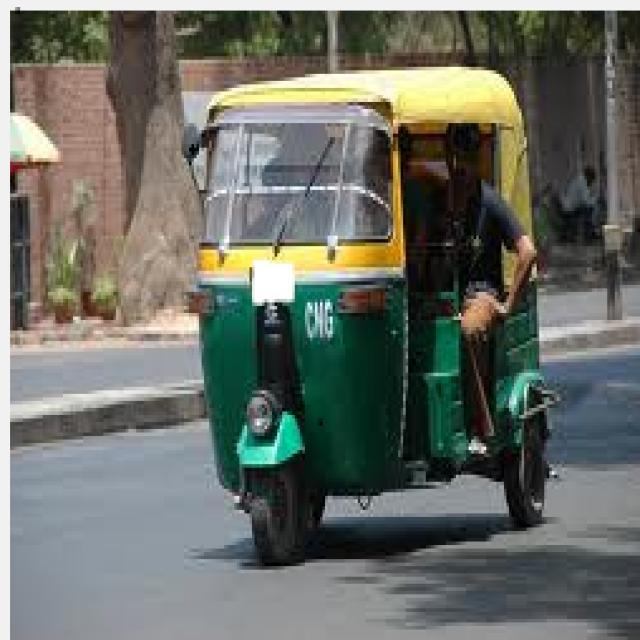auto_front: (184, 66, 556, 564)
